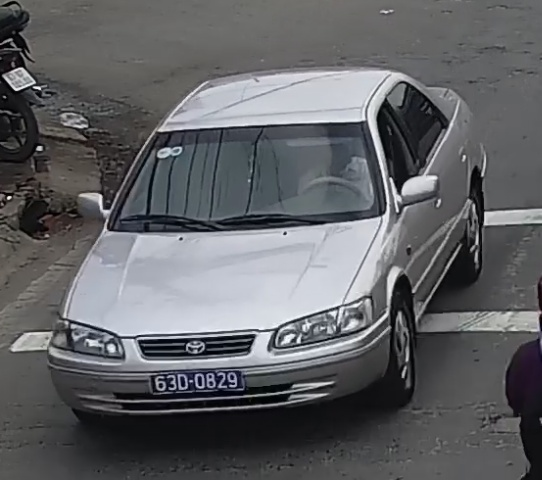vehicle plate: (142, 366, 249, 396)
